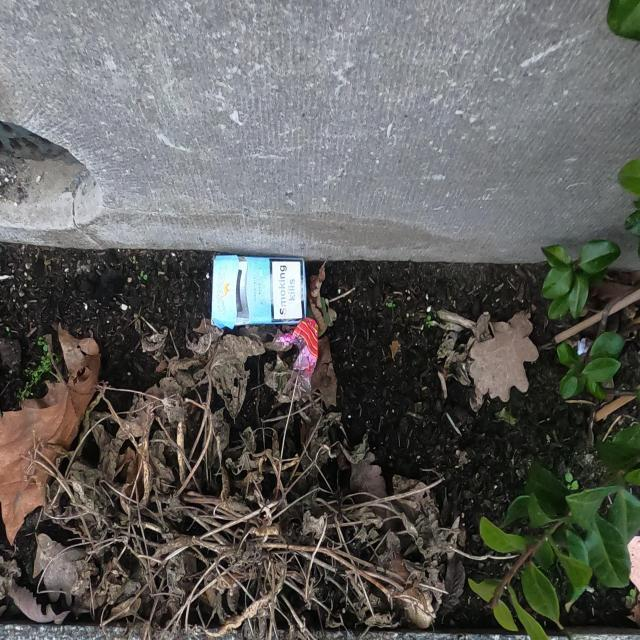Paper: (210, 255, 306, 330)
Plastic: (272, 316, 318, 404)
